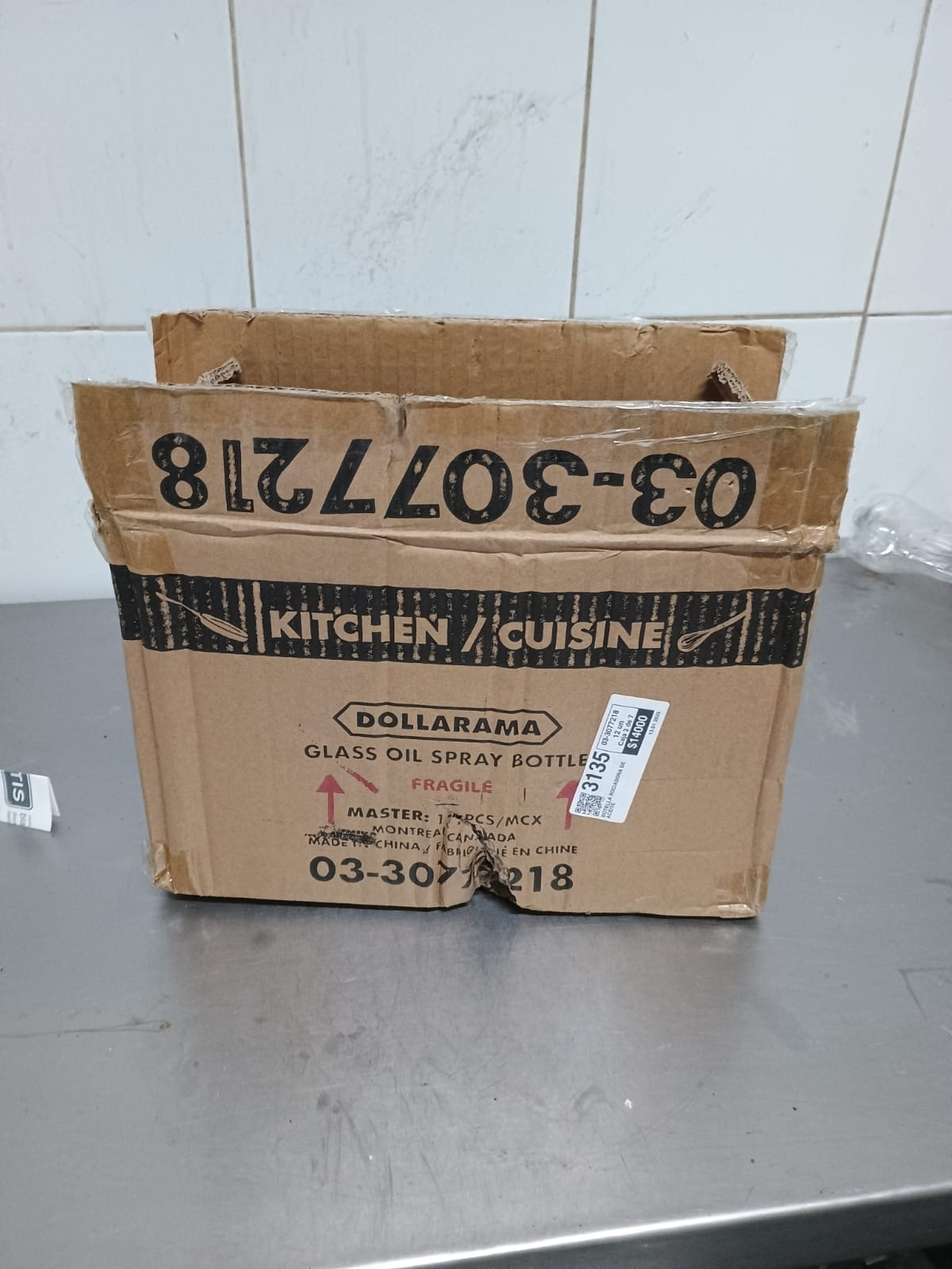Carton: (80, 317, 860, 920)
